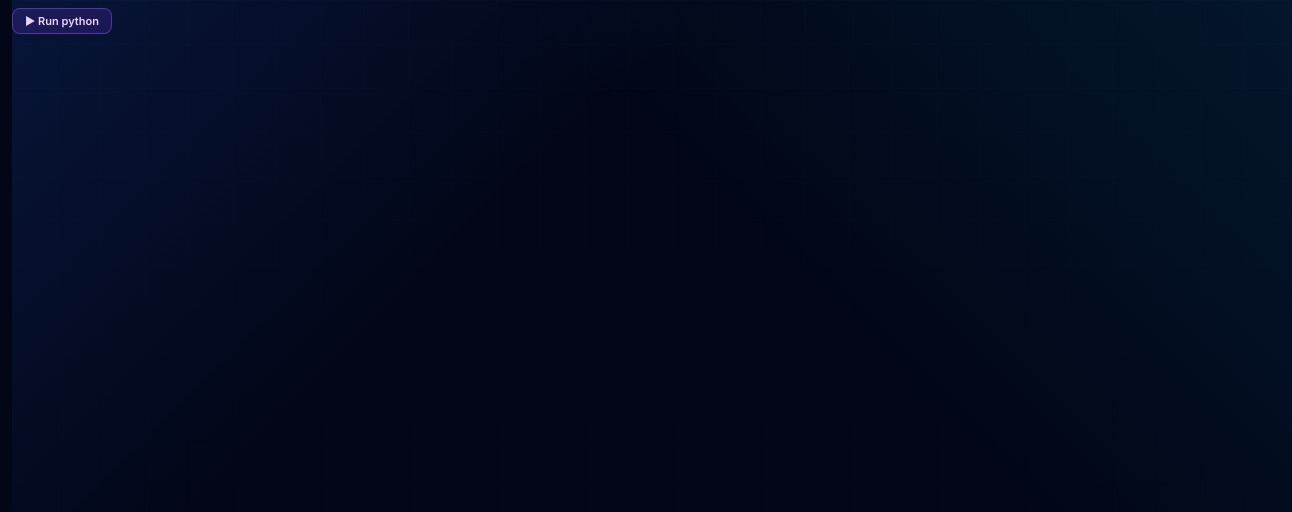
Test: execute endpoint disabled (403) -> gray Execution Unknown, no crash
Click the button with test id "run-code-btn": (62, 21) [12,8,112,34]
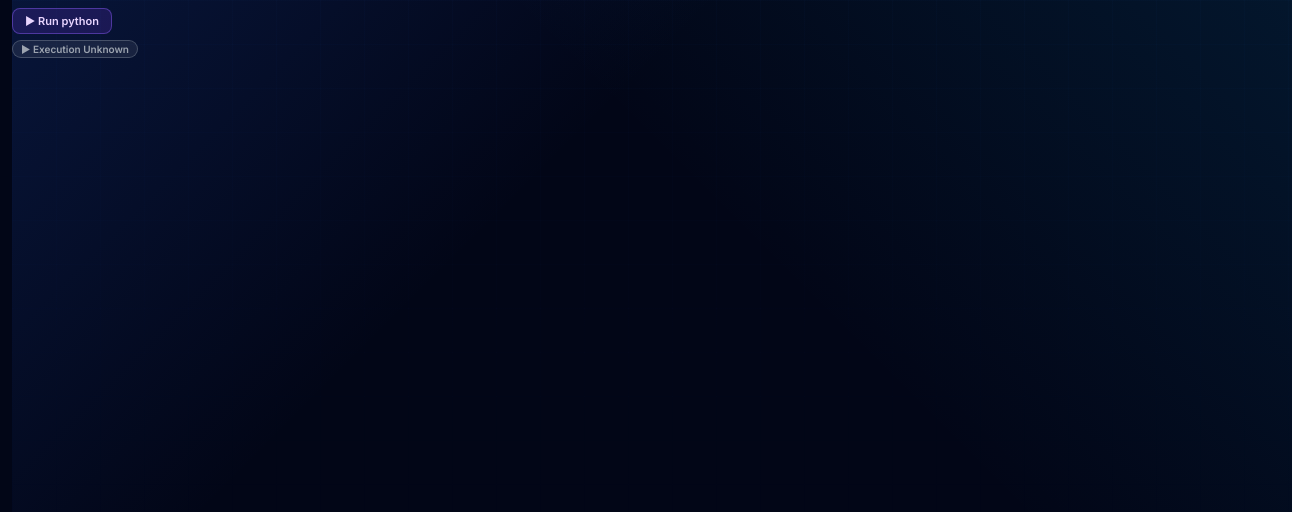
Check: the text with test id "runtime-badge" shows "Execution Unknown", box [33,43,129,55]
